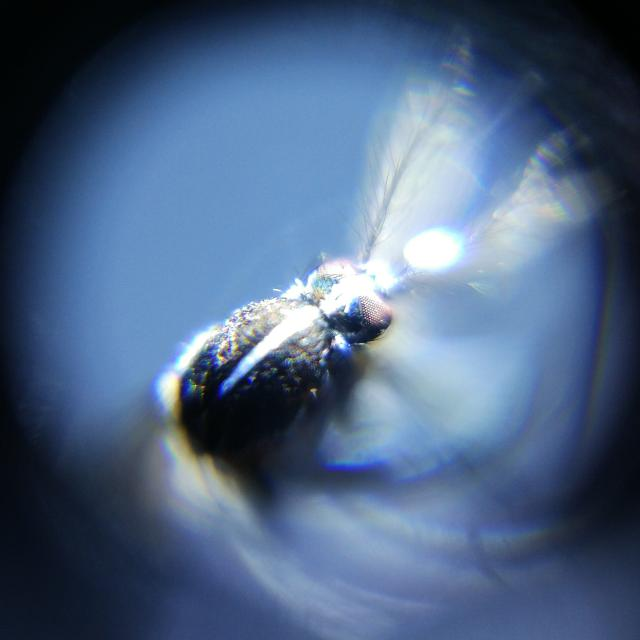albopictus: (162, 137, 447, 455)
